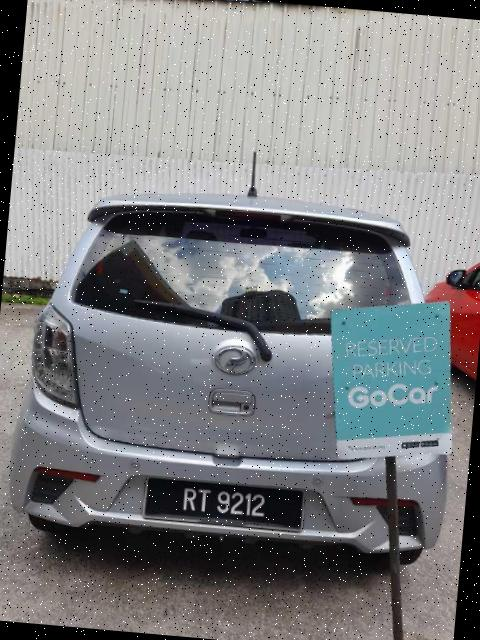License_Plate: (142, 475, 307, 533)
car: (5, 173, 475, 570)
